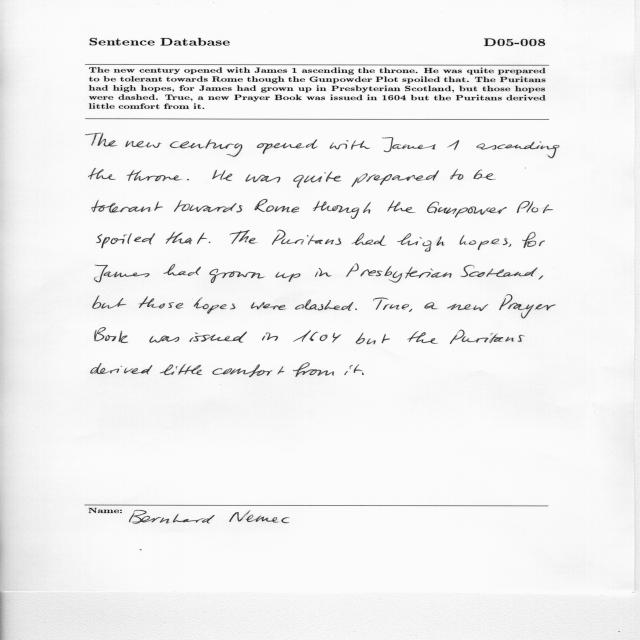word: (346, 264, 452, 283), (351, 170, 439, 187), (477, 142, 560, 159), (499, 295, 556, 318), (170, 139, 242, 157), (427, 202, 507, 218), (450, 330, 525, 344), (313, 201, 371, 219), (272, 230, 341, 245), (212, 365, 285, 378), (95, 265, 150, 282), (461, 265, 538, 277), (92, 200, 163, 213), (257, 139, 318, 154), (397, 233, 445, 252), (96, 233, 155, 248), (174, 200, 243, 212), (293, 171, 341, 188), (382, 137, 436, 152), (210, 269, 266, 283), (459, 235, 508, 250), (194, 297, 236, 314), (91, 363, 152, 374), (295, 300, 354, 311), (190, 332, 247, 343), (293, 330, 341, 343), (255, 199, 299, 213), (127, 170, 182, 181), (293, 363, 334, 377), (166, 232, 207, 245), (139, 297, 183, 309), (95, 327, 128, 343), (93, 295, 127, 309), (373, 297, 409, 310), (160, 364, 202, 375), (164, 264, 201, 276), (352, 233, 386, 246), (86, 133, 117, 147), (517, 201, 553, 213), (407, 331, 438, 344), (330, 140, 370, 150), (230, 230, 257, 244), (387, 200, 416, 213), (356, 333, 390, 344), (522, 232, 545, 248), (89, 168, 116, 180), (246, 174, 281, 183), (447, 304, 488, 311), (251, 302, 286, 310), (126, 141, 162, 148), (276, 272, 301, 282), (212, 170, 232, 181), (474, 170, 496, 180), (150, 336, 180, 343), (345, 365, 363, 375), (315, 268, 332, 277), (262, 332, 278, 341), (451, 169, 464, 180), (448, 140, 460, 150), (425, 302, 438, 309), (539, 275, 544, 280), (509, 244, 512, 247), (409, 309, 412, 312), (355, 308, 357, 310), (362, 373, 364, 375), (187, 179, 189, 180), (209, 242, 211, 243)
